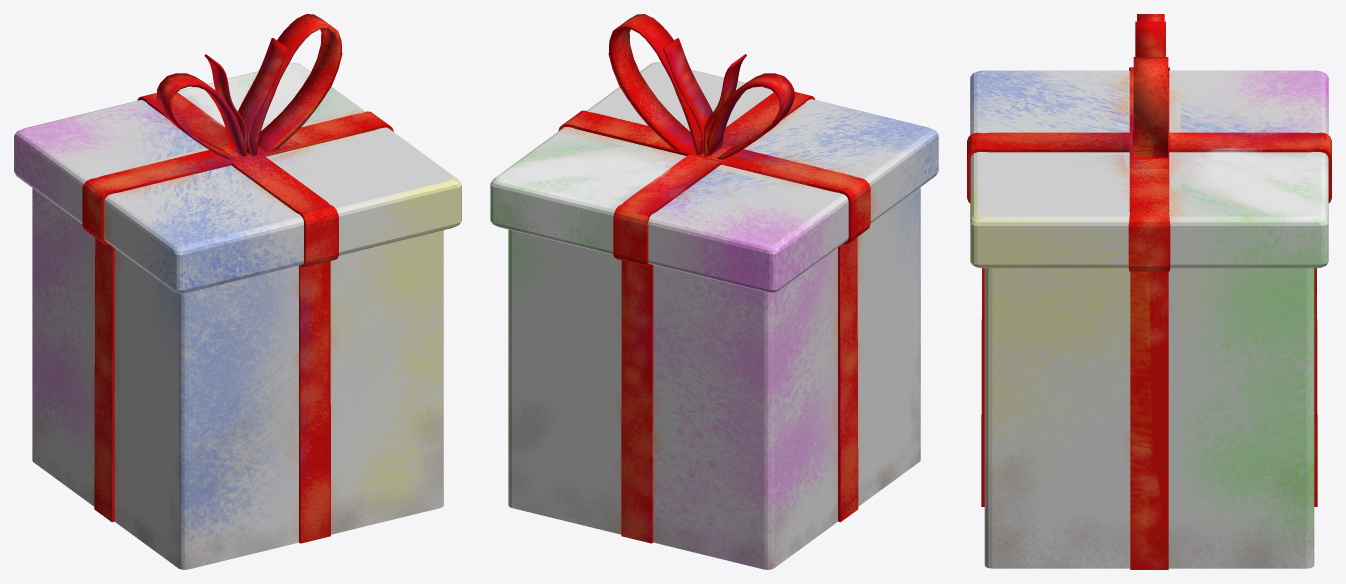
File: fnaf_gift_box.glb
3 views of the same model, side by side, from view 1: azimuth 30°, elevation 25°; view 2: azimuth 150°, elevation 25°; view 3: azimuth 270°, elevation 25° (orthographic). The views are drawn at different scales.
Visible parts, largest first — view 1: Giftbox; view 2: Giftbox; view 3: Giftbox.
Part boxes in pixels (<box>): Giftbox: <box>14,14,461,569</box>; Giftbox: <box>490,14,938,569</box>; Giftbox: <box>967,14,1331,569</box>.
Bounding box in the file's own units: 2.21 × 3.21 × 2.21.
Materials: 1 (1 with a texture image).
